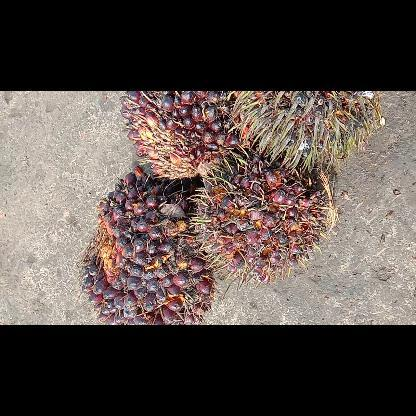Kurang masak: (196, 156, 332, 278), (121, 90, 238, 180)
TBS abnormal: (231, 91, 384, 167)
TBS masak: (83, 166, 213, 324)
